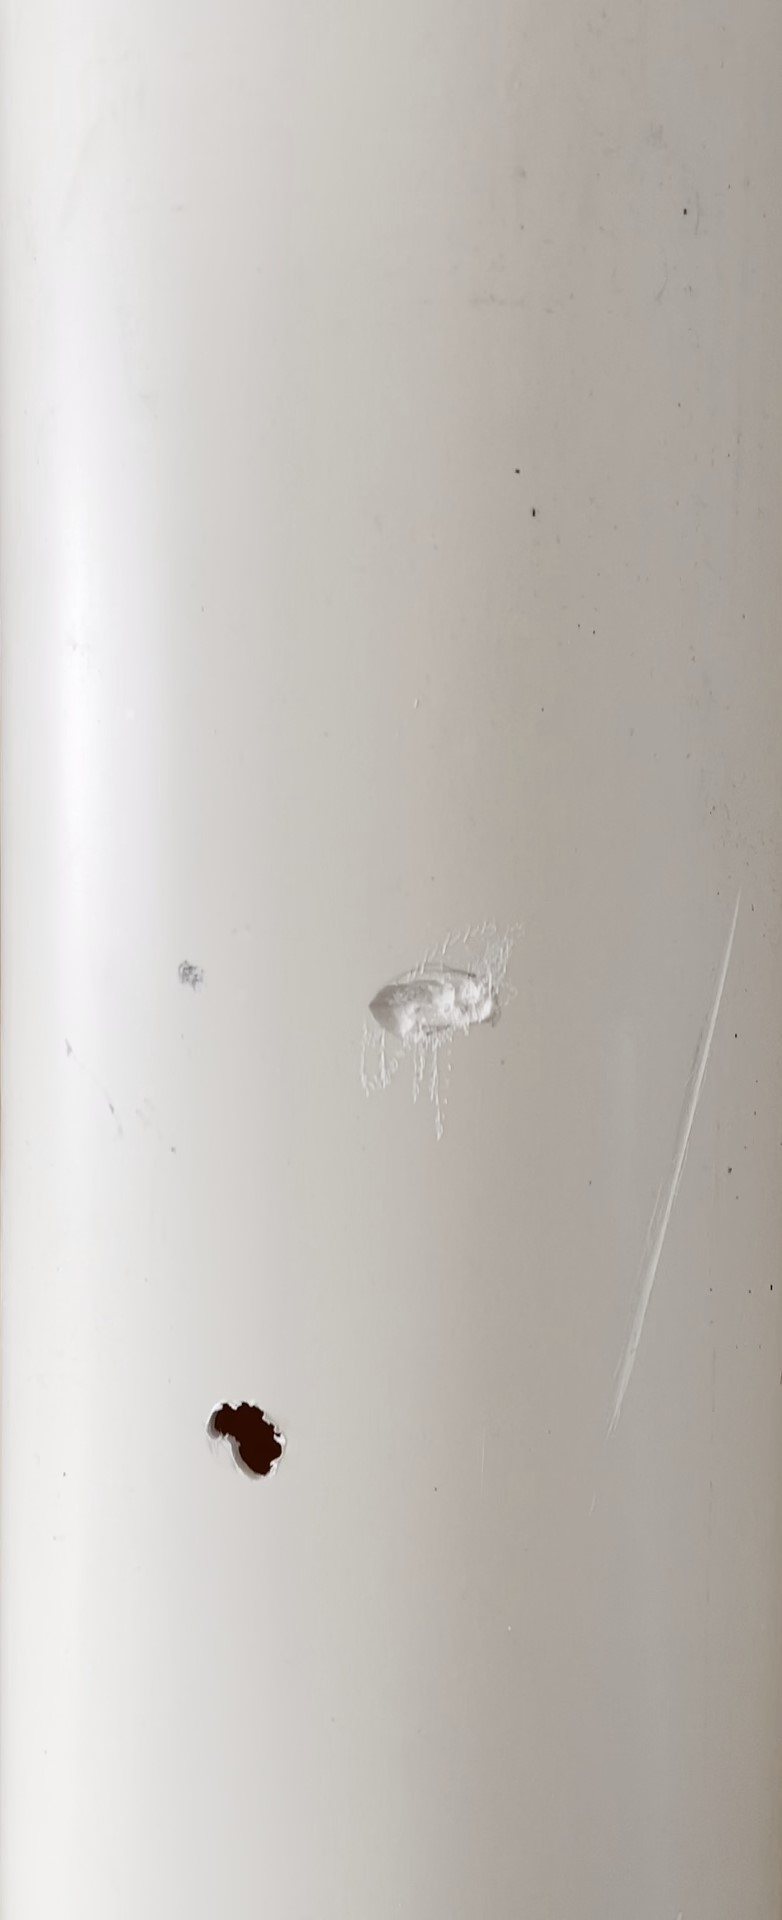kongdong: (202, 1389, 315, 1491)
sunshang: (602, 874, 739, 1422), (363, 972, 502, 1051)
